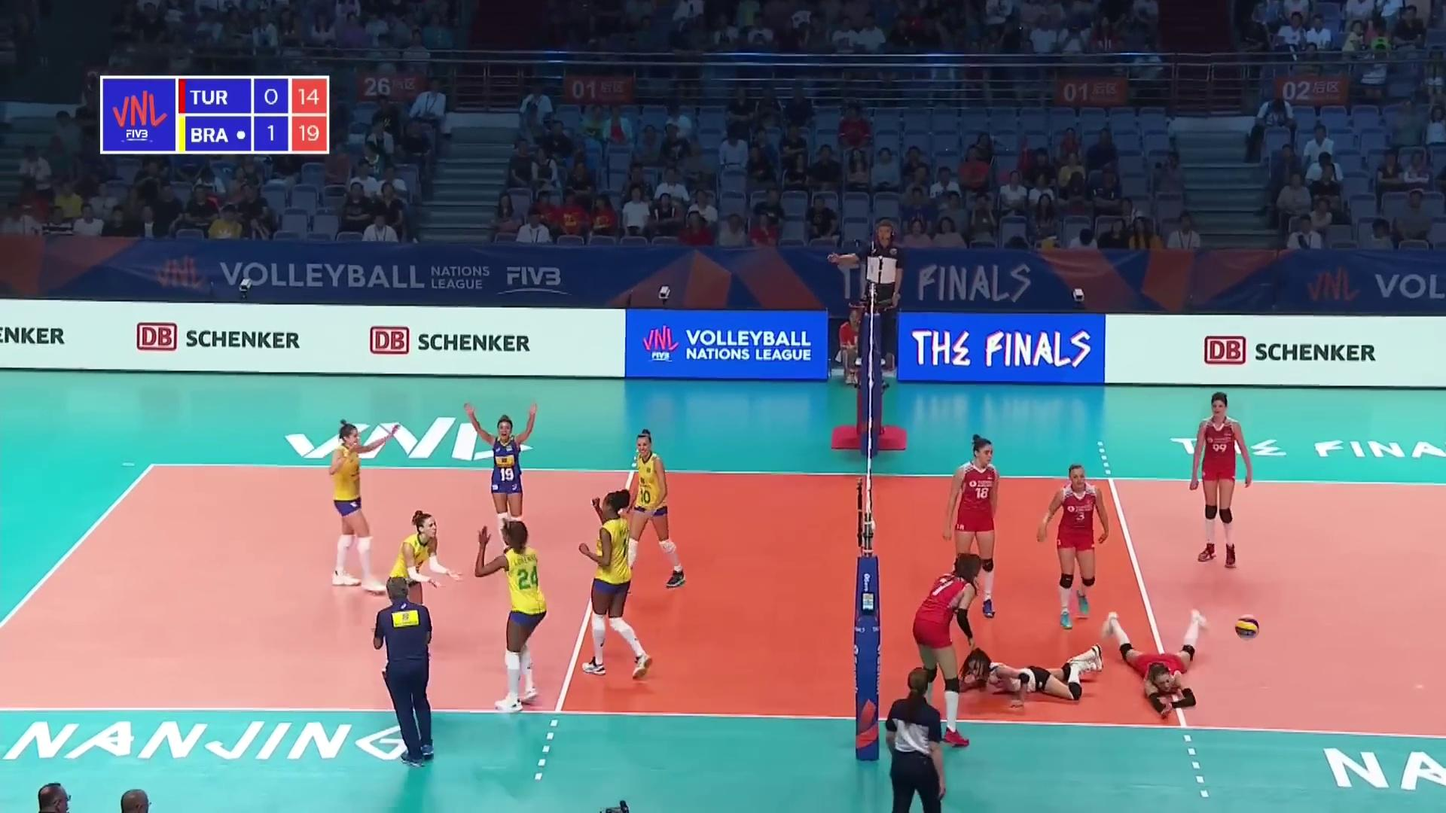player: (577, 489, 653, 679), (475, 519, 547, 713), (464, 400, 541, 577), (911, 553, 982, 743), (381, 512, 460, 669), (1102, 610, 1210, 717), (1039, 467, 1111, 627), (615, 428, 685, 588), (1191, 391, 1253, 567), (944, 437, 1003, 617), (328, 424, 391, 591), (941, 645, 1104, 709)
refree: (886, 667, 950, 813), (840, 223, 902, 361)
